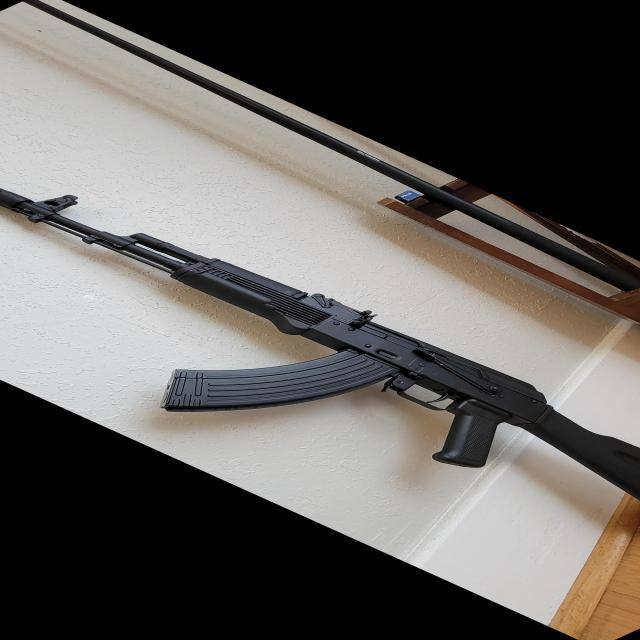weapon: (3, 190, 640, 499)
